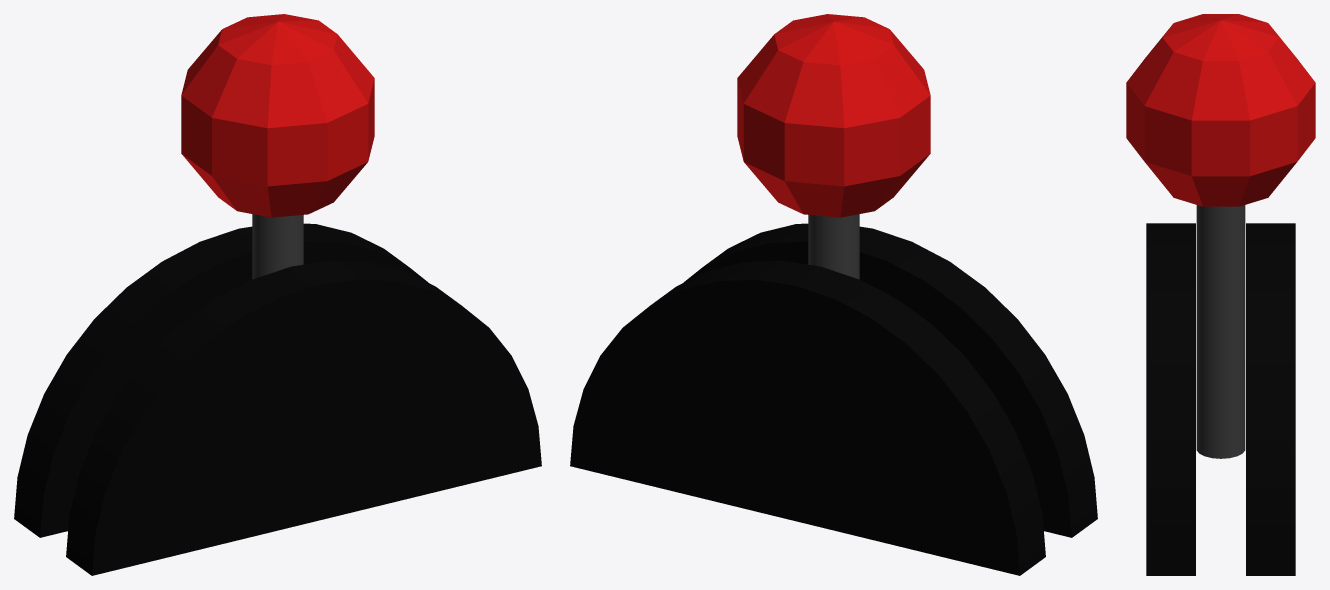
The model's file is lever.fbx.
3 renders of one model, left to right at view 1: azimuth 30°, elevation 25°; view 2: azimuth 150°, elevation 25°; view 3: azimuth 270°, elevation 25°, orthographic. The views are drawn at different scales.
Visible parts, largest first — view 1: Cylinder001, Sphere001, Cylinder002, Cylinder003; view 2: Cylinder002, Sphere001, Cylinder001, Cylinder003; view 3: Sphere001, Cylinder001, Cylinder002, Cylinder003.
Part boxes in pixels (x1,y1,x2,y2): Cylinder001: (66,260,541,575); Sphere001: (181,14,374,217); Cylinder002: (14,223,428,537); Cylinder003: (252,214,303,279); Cylinder002: (570,260,1045,575); Sphere001: (737,14,930,217); Cylinder001: (683,223,1097,537); Cylinder003: (808,214,859,279); Sphere001: (1126,14,1315,206); Cylinder001: (1146,223,1195,575); Cylinder002: (1246,223,1295,575); Cylinder003: (1196,205,1245,458).
Size of the model in its own units: 50 by 50 by 19.02.
